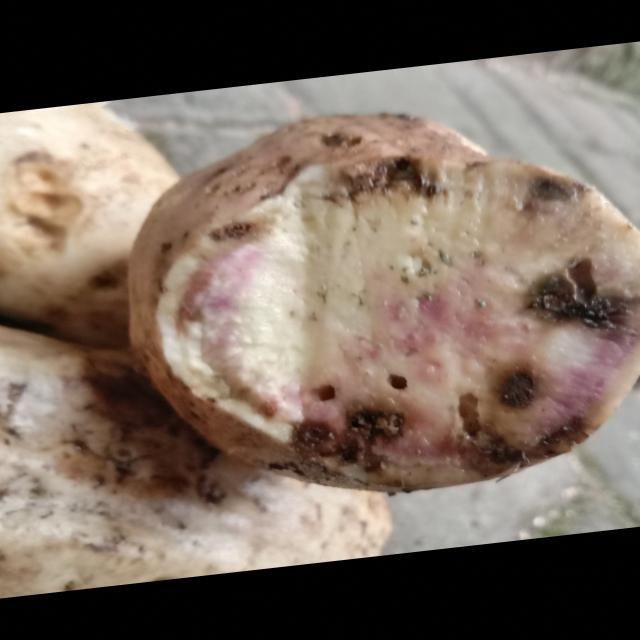Sick Sweet Potato_Tuber Rot: (157, 151, 638, 491)
